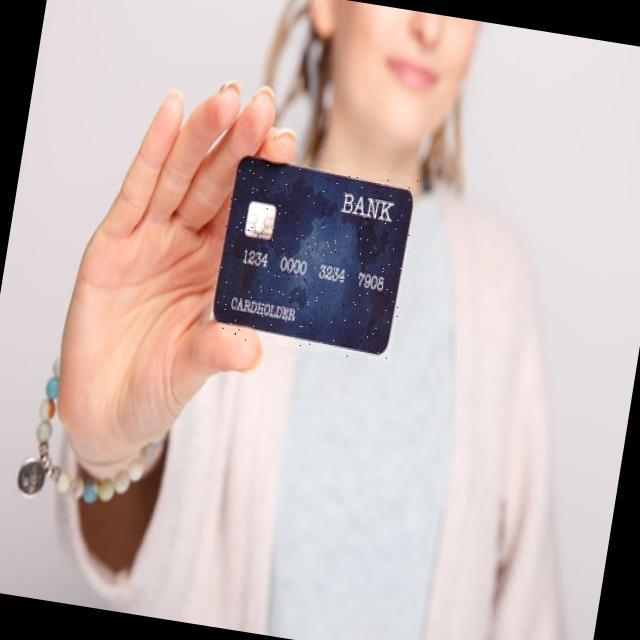payment_card: (211, 154, 414, 357)
